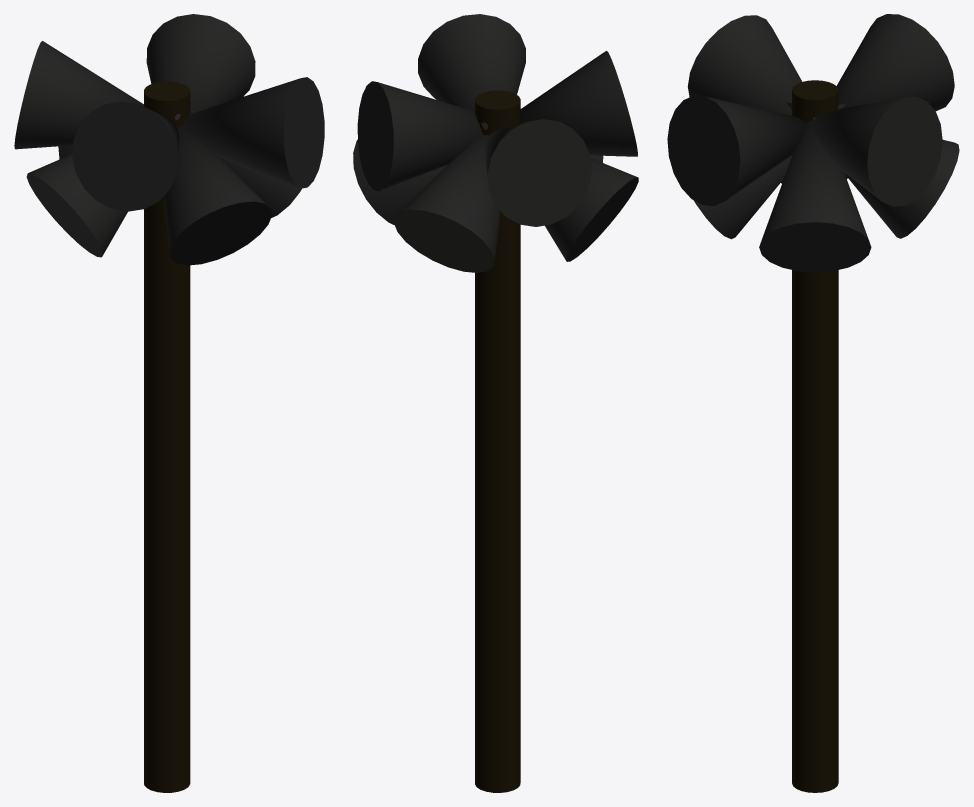
The model's file is Speaker.fbx.
3 renders of one model, left to right at view 1: azimuth 30°, elevation 25°; view 2: azimuth 150°, elevation 25°; view 3: azimuth 270°, elevation 25°, orthographic.
Visible parts, largest first — view 1: pCone9; view 2: pCone9; view 3: pCone9.
Part boxes in pixels (x1,y1,x2,y2): pCone9: (14, 14, 324, 792); pCone9: (353, 14, 638, 792); pCone9: (667, 14, 959, 792).
Bounding box in the file's own units: 5.56 × 14.59 × 5.3.
